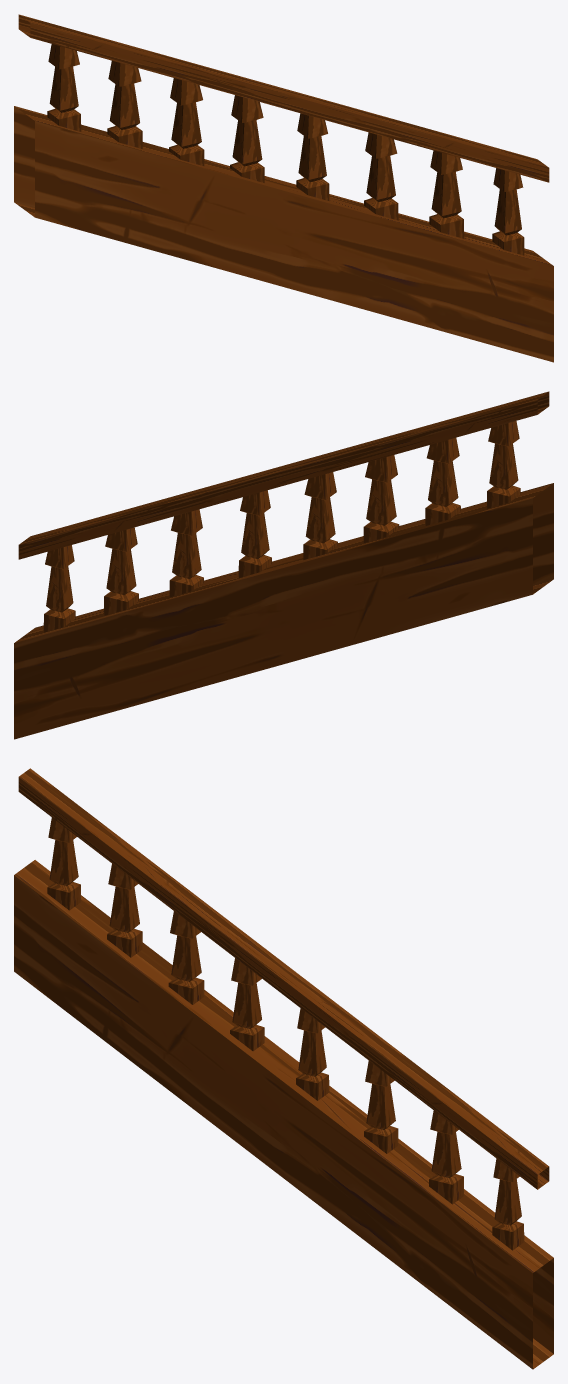
Rendered from MOD_Stairs_02_Railing_02.fbx.
The picture shows the model from 3 angles, top to bottom: view 1: azimuth 30°, elevation 25°; view 2: azimuth 150°, elevation 25°; view 3: azimuth 330°, elevation 25°; orthographic projection.
Parts seen in each view (by area): view 1: MOD_Stairs_02_Railing_02; view 2: MOD_Stairs_02_Railing_02; view 3: MOD_Stairs_02_Railing_02.
Boxes of the visible parts, x1,y1,x2,y2 form: MOD_Stairs_02_Railing_02: (14,14,553,362); MOD_Stairs_02_Railing_02: (14,391,553,739); MOD_Stairs_02_Railing_02: (14,768,553,1369).
Size of the model in its own units: 400 by 341 by 28.11.
